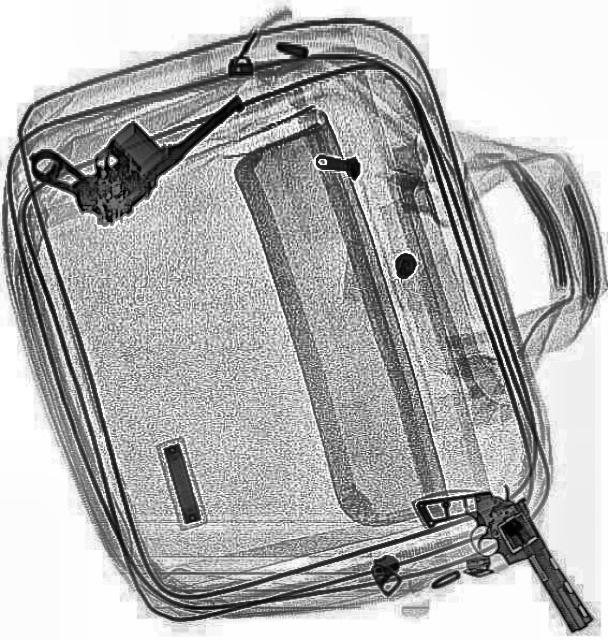Gun: (19, 26, 251, 242), (436, 465, 584, 639)
